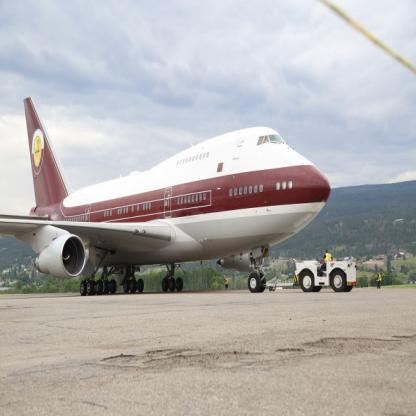CIV_Plane: (0, 92, 333, 296)
